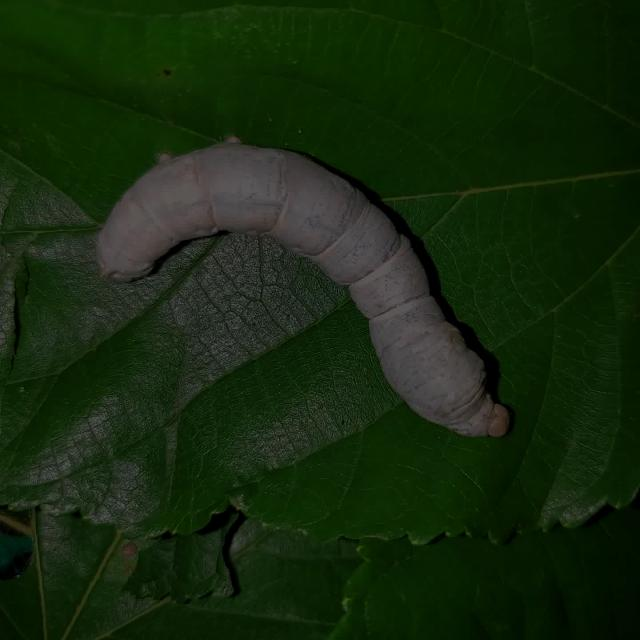Healthy: (82, 128, 517, 452)
